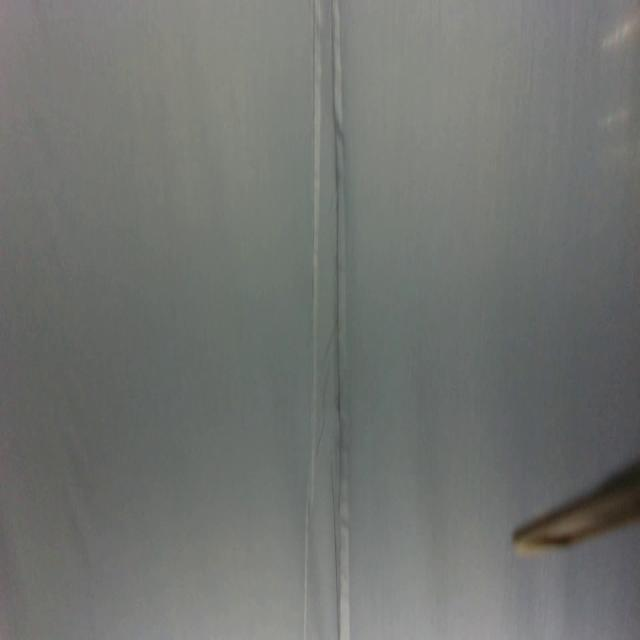crease: (302, 0, 323, 640), (330, 1, 350, 640)
